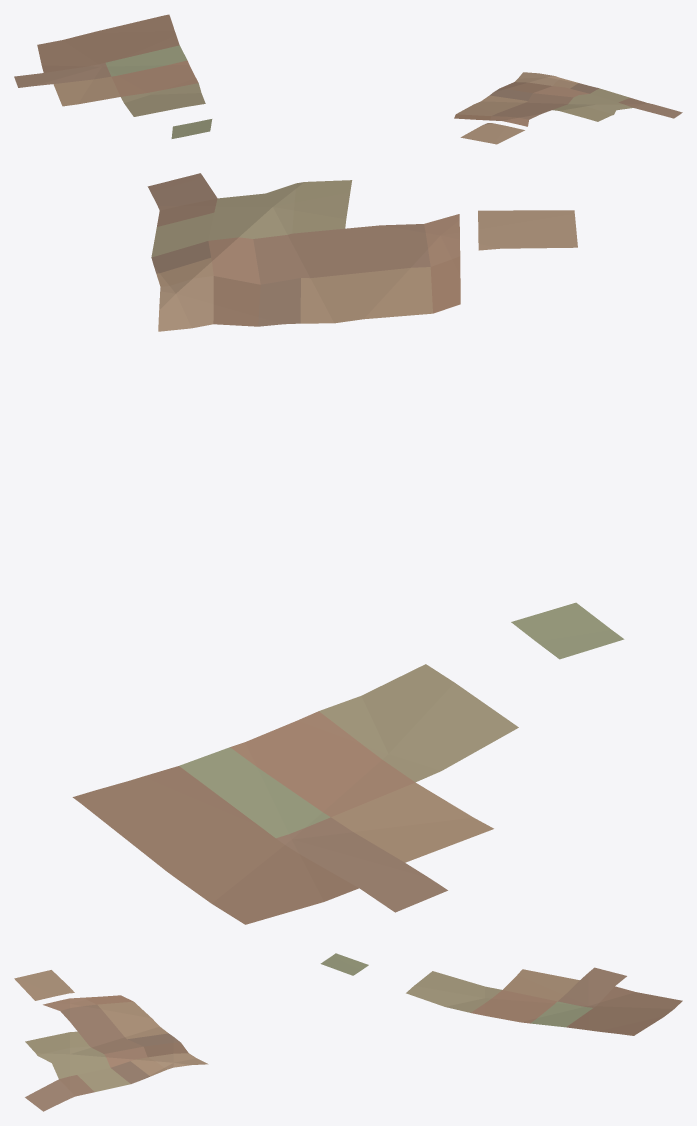
File: farm_-30_-32_soil.glb
The picture shows the model from 3 angles, top to bottom: view 1: azimuth 30°, elevation 25°; view 2: azimuth 150°, elevation 25°; view 3: azimuth 270°, elevation 25°; orthographic projection. The views are drawn at different scales.
Visible parts, largest first — view 1: geometry_0; view 2: geometry_0; view 3: geometry_0.
Boxes of the visible parts, x1=… form: geometry_0: x1=14, y1=14, x2=682, y2=144; geometry_0: x1=72, y1=173, x2=624, y2=924; geometry_0: x1=14, y1=953, x2=682, y2=1111.
Size of the model in its own units: 389 by 85.32 by 516.
